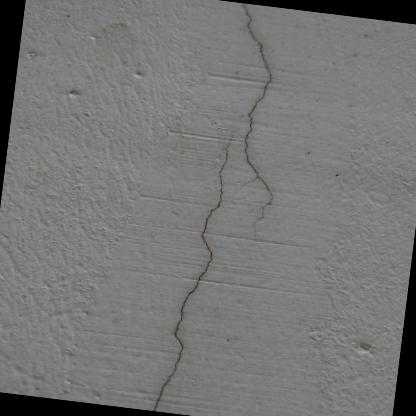crack: (151, 136, 232, 411), (240, 2, 272, 232)
